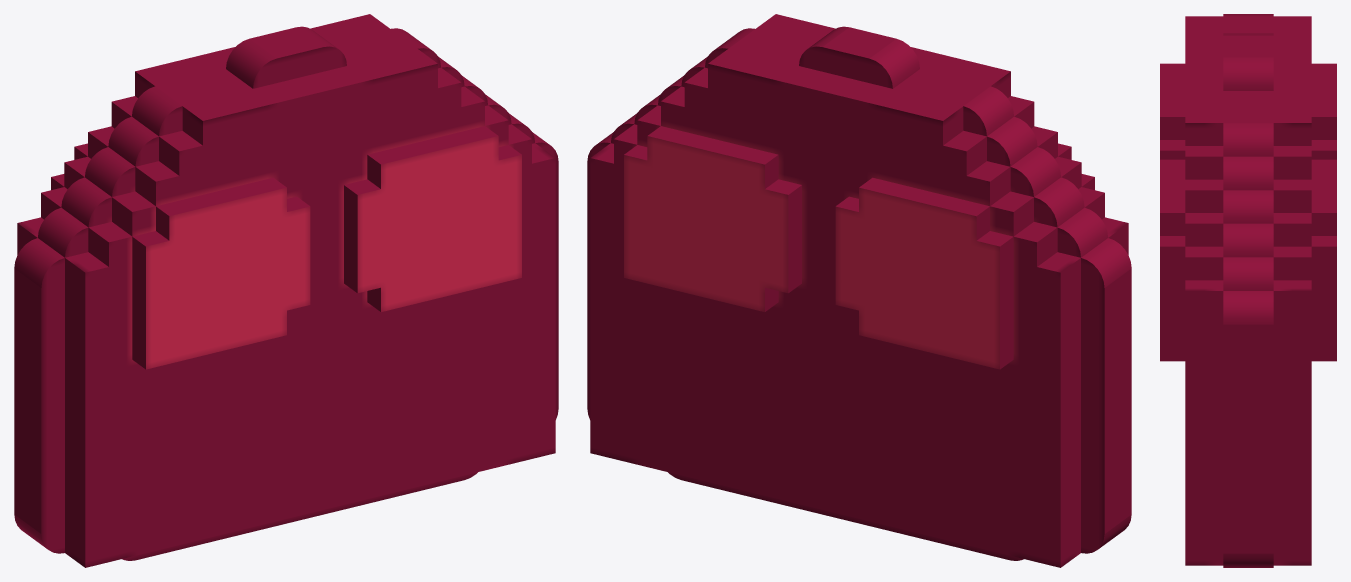
File: Short.obj
3 renders of one model, left to right at view 1: azimuth 30°, elevation 25°; view 2: azimuth 150°, elevation 25°; view 3: azimuth 270°, elevation 25°, orthographic. The views are drawn at different scales.
Bounding box in the file's own units: 22 × 19 × 7.
Materials: 1 (1 with a texture image).
